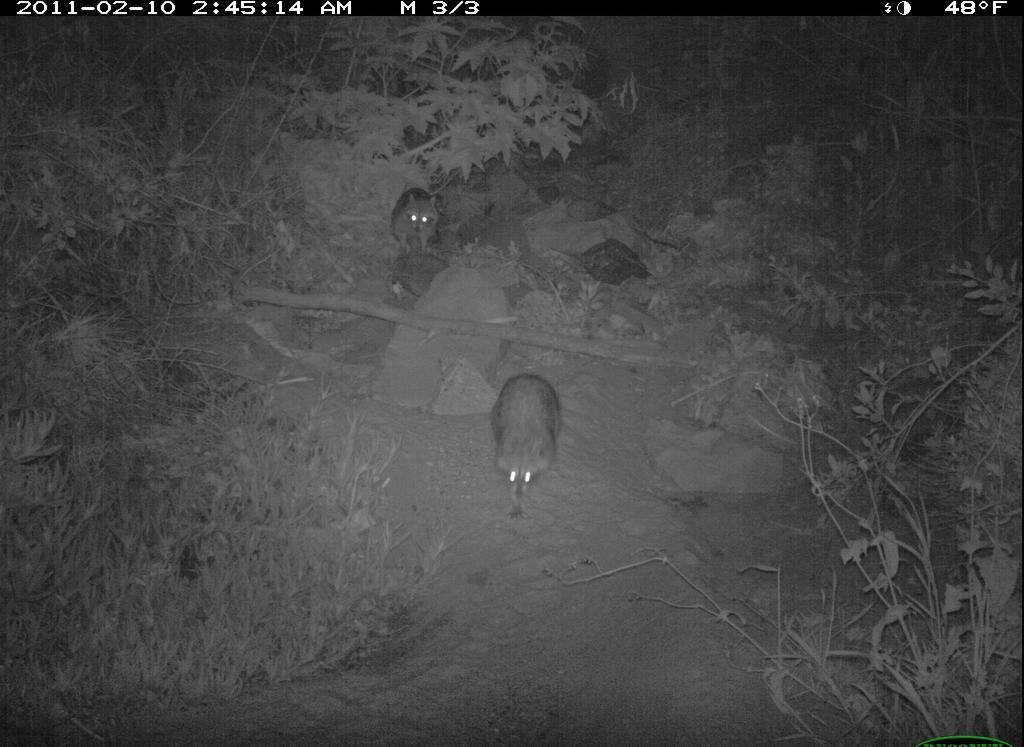raccoon: (487, 369, 568, 505), (388, 185, 447, 258)
